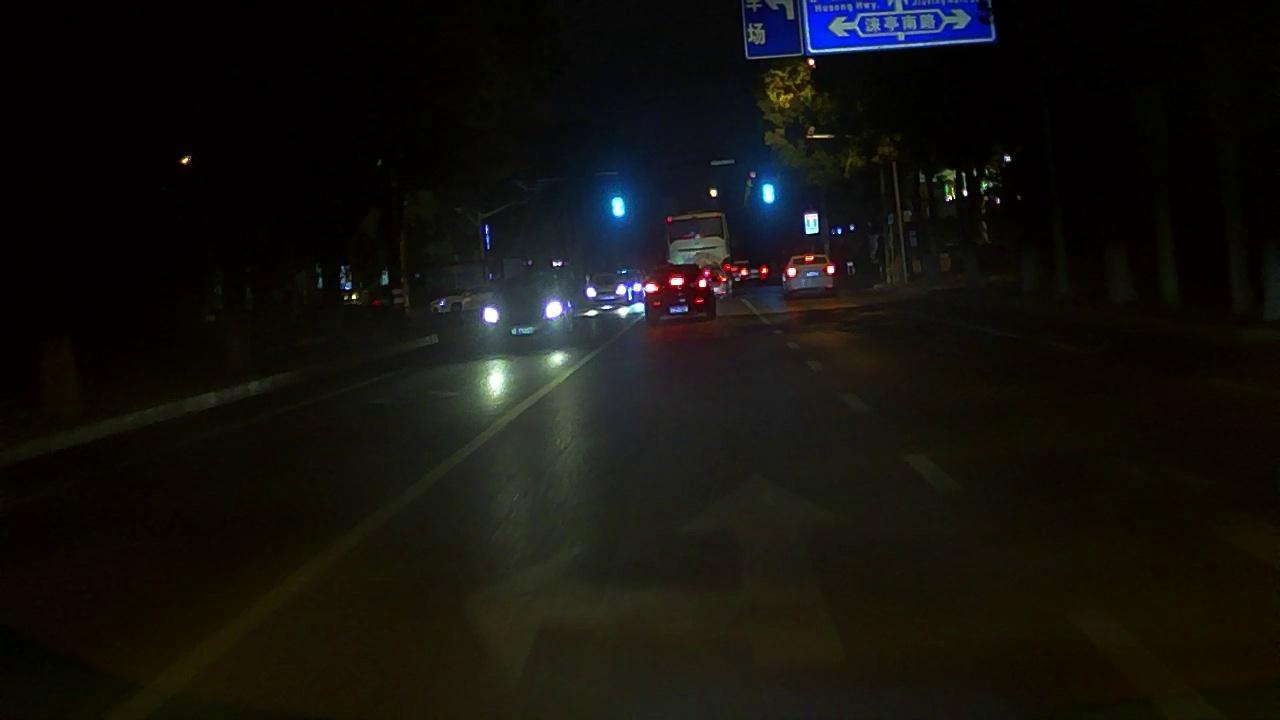traffic_light: (760, 179, 778, 208), (608, 195, 628, 221)
